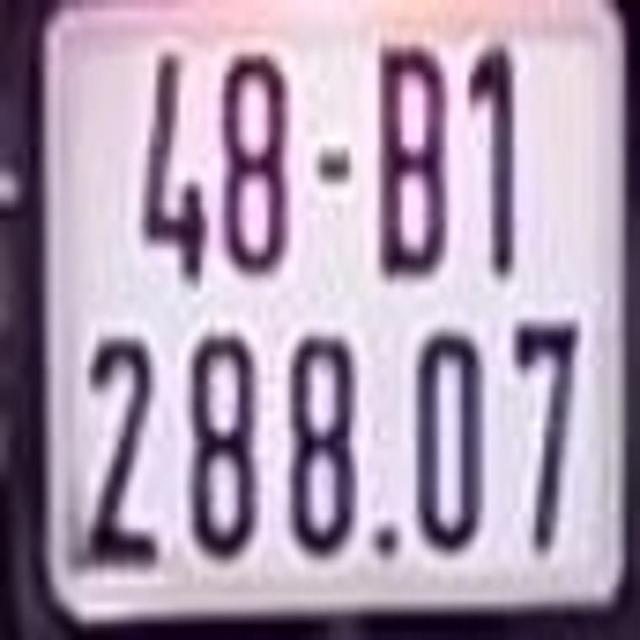0: (410, 327, 493, 555)
1: (466, 42, 530, 280)
2: (84, 328, 168, 571)
4: (134, 52, 214, 284)
7: (508, 311, 584, 556)
8: (284, 320, 360, 558), (186, 325, 258, 562), (222, 43, 287, 280)
B: (373, 40, 446, 283)
